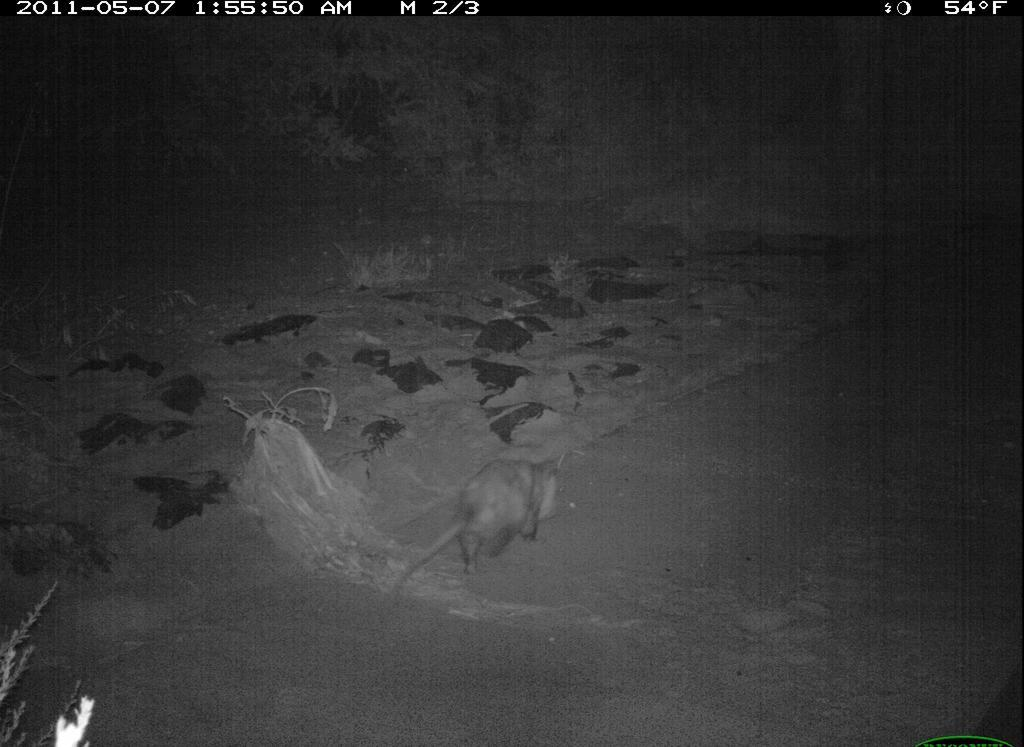opossum: (376, 442, 568, 598)
